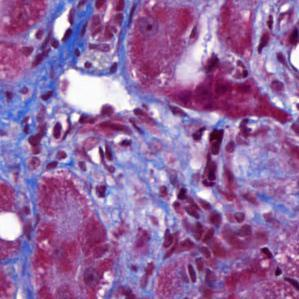inflammation: (187, 121, 230, 160), (95, 140, 122, 177), (44, 111, 73, 143)
